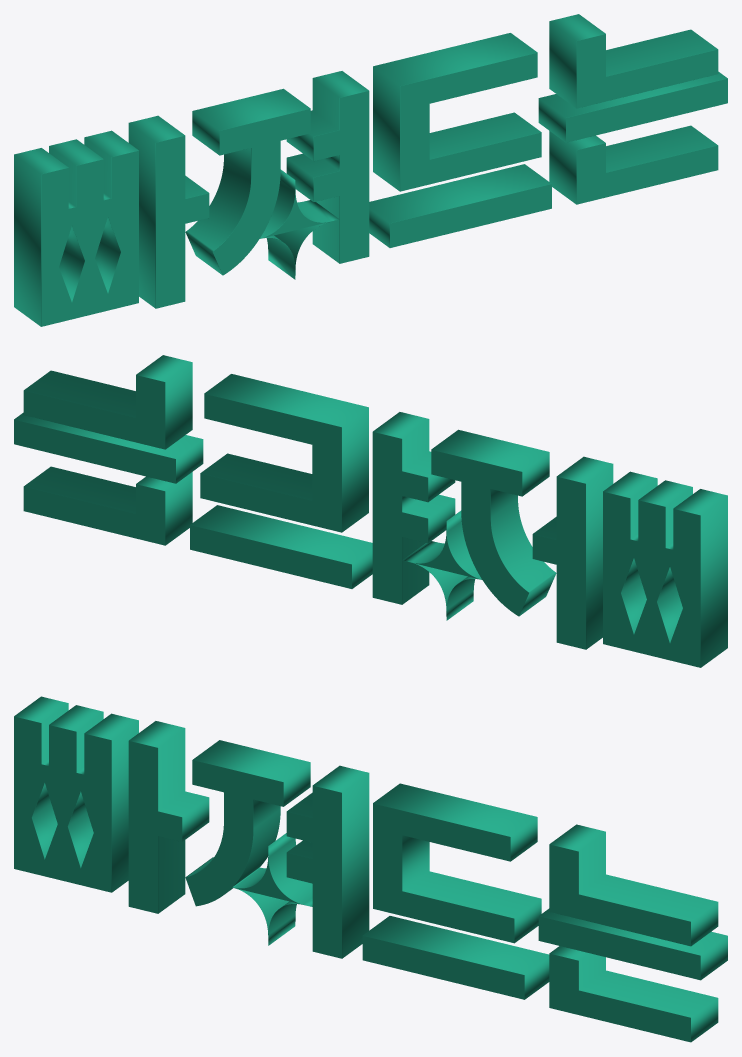
The model's file is falling.glb.
The picture shows the model from 3 angles, top to bottom: view 1: azimuth 30°, elevation 25°; view 2: azimuth 150°, elevation 25°; view 3: azimuth 330°, elevation 25°; orthographic projection.
Parts seen in each view (by area): view 1: Text.002; view 2: Text.002; view 3: Text.002.
Part boxes in pixels (box(x1,y1,x2,y2)): Text.002: box(14, 14, 727, 326); Text.002: box(14, 355, 727, 667); Text.002: box(14, 696, 727, 1042).
Bounding box in the file's own units: 2.93 × 0.6976 × 0.201.
